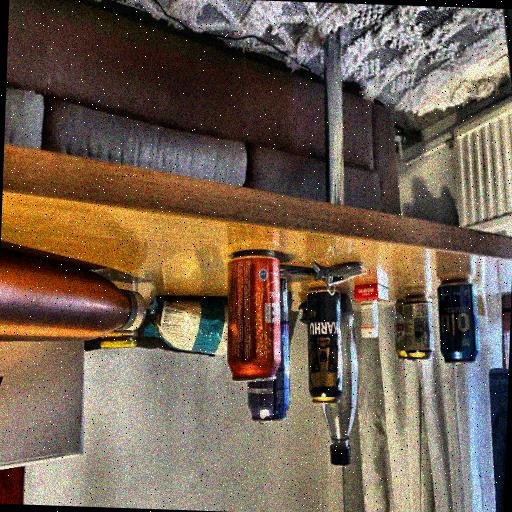A_LeCoq: (394, 299, 410, 366)
coop_larger: (214, 247, 286, 386)
karhu: (296, 282, 349, 409)
koti: (432, 278, 482, 363)
sandels: (402, 298, 434, 366)
